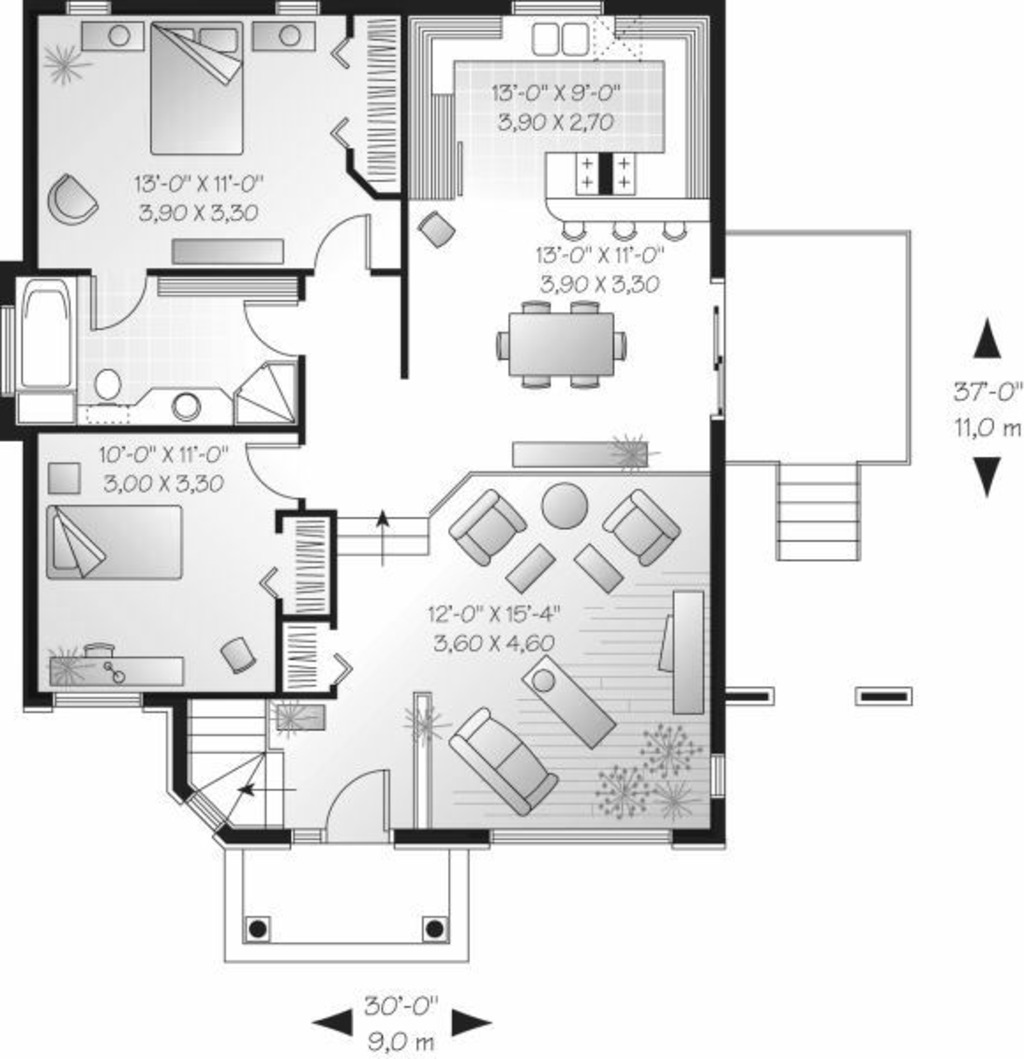bed: (143, 19, 255, 155), (23, 490, 188, 577)
dining_table: (472, 287, 644, 393)
door: (309, 766, 412, 843), (293, 201, 384, 284), (241, 435, 325, 510), (81, 263, 164, 337), (238, 297, 307, 363)
kitchen_bar: (526, 145, 712, 245)
large_sofa: (425, 687, 559, 818)
small_sofa: (601, 480, 680, 572), (446, 482, 528, 569)
stairs: (186, 690, 296, 847), (768, 448, 883, 571), (331, 506, 428, 561)
tub: (10, 276, 78, 387)
twin_sink: (514, 5, 601, 79)
window: (491, 822, 680, 850), (41, 684, 152, 714), (51, 1, 109, 20), (707, 742, 725, 797)
